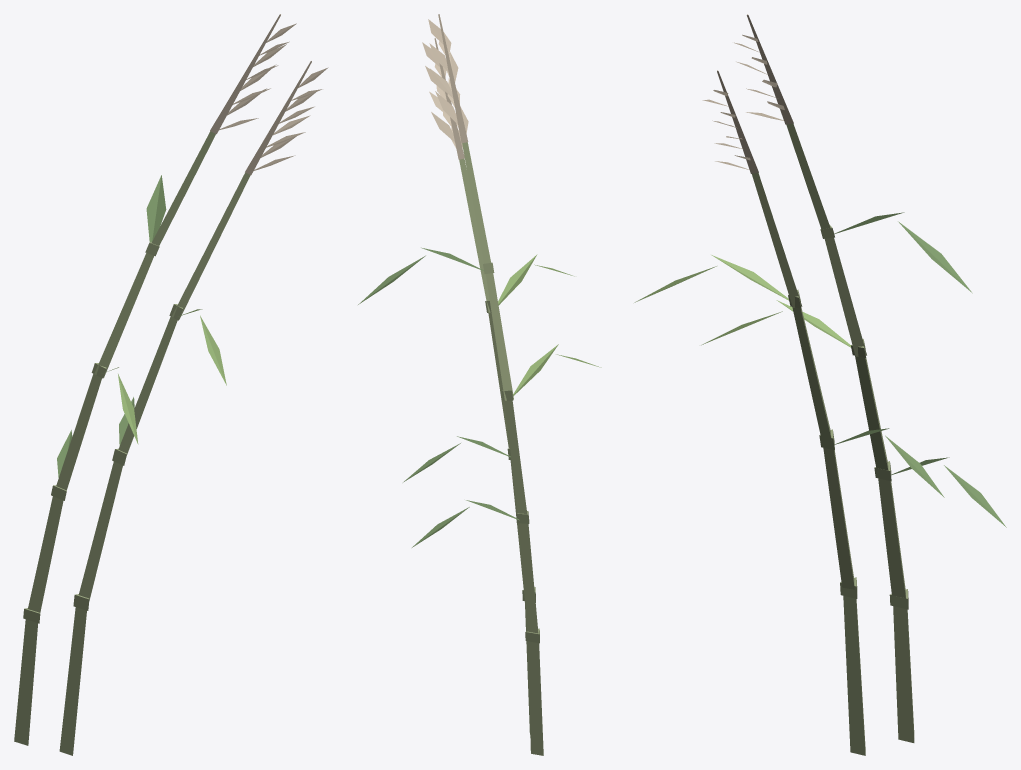
The model's file is shui.luwei__bloom.glb.
The picture shows the model from 3 angles, left to right: view 1: azimuth 30°, elevation 25°; view 2: azimuth 150°, elevation 25°; view 3: azimuth 270°, elevation 25°; orthographic projection. The views are drawn at different scales.
Parts seen in each view (by area): view 1: shui.luwei__bloom; view 2: shui.luwei__bloom; view 3: shui.luwei__bloom.
Boxes of the visible parts, bbox=[...] form: shui.luwei__bloom: bbox=[14, 14, 328, 755]; shui.luwei__bloom: bbox=[358, 14, 601, 755]; shui.luwei__bloom: bbox=[634, 14, 1006, 755].
Size of the model in its own units: 1.03 by 3.2 by 1.32.
